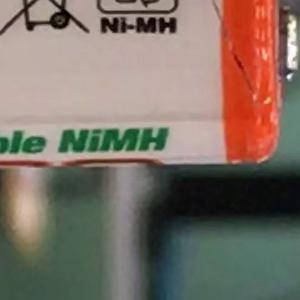NIMH: (48, 118, 178, 163)
